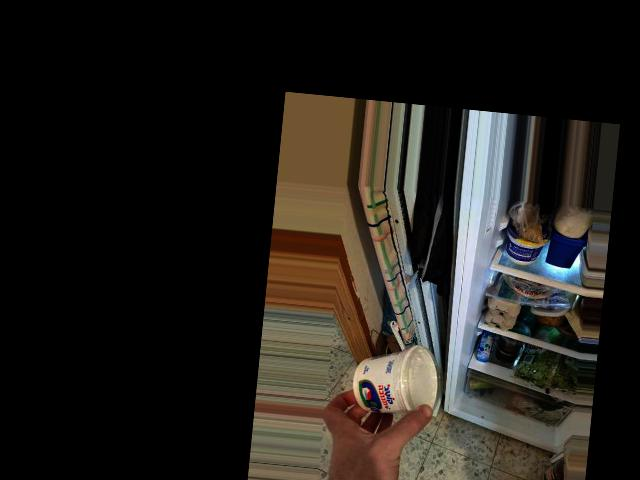cotage: (346, 341, 439, 425)
